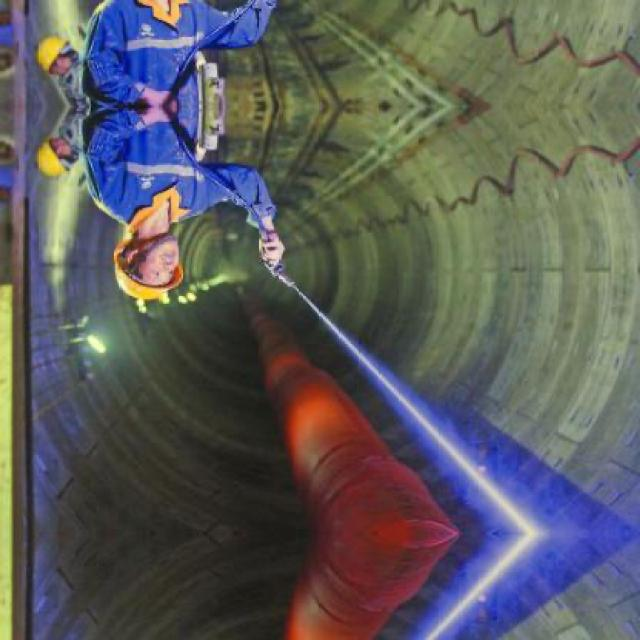con casco: (110, 232, 195, 306), (11, 124, 80, 188), (30, 12, 74, 106)
